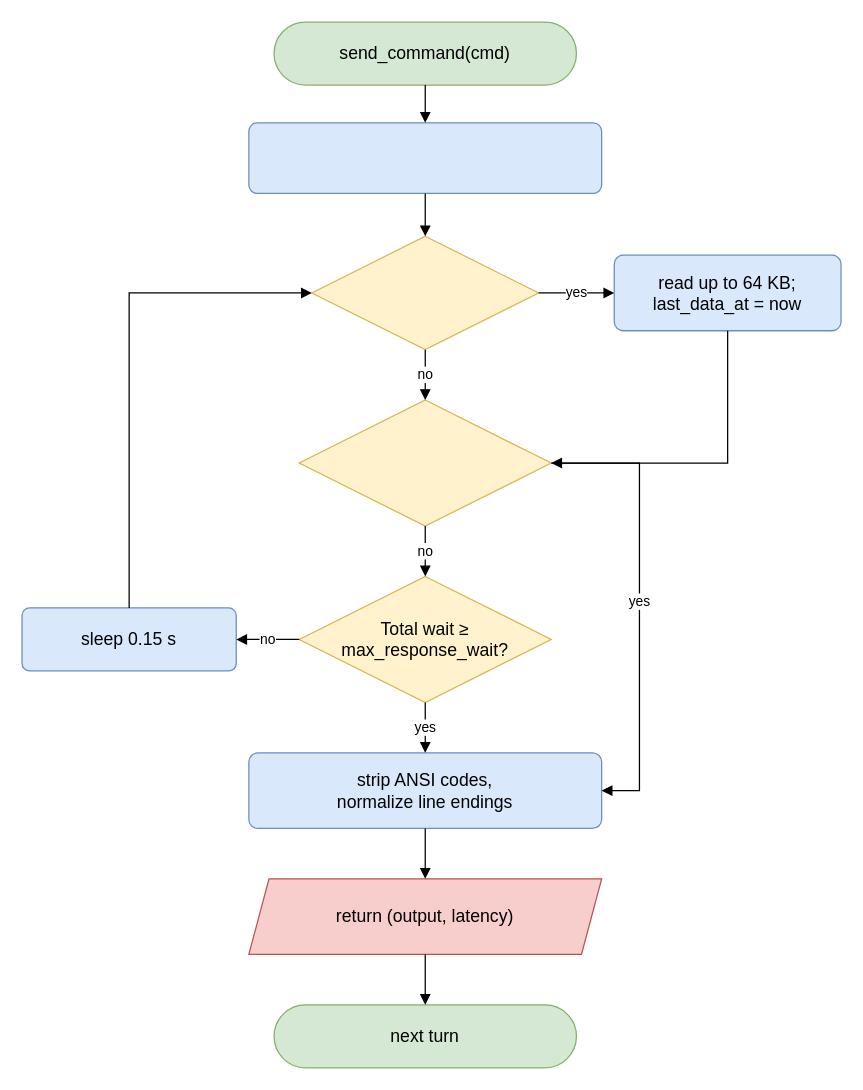
Some shapes in this 863 by 1090 pixel diagram are drawn without their labels. The shapes that lost their labels are listed below. From the top down, each one's centre as x and y in pixels, then its label:
the point at 425,157: write cmd + newline; start clock
the point at 425,292: Bytes waiting?
the point at 424,462: Quiet for 1.5 s since last data?
